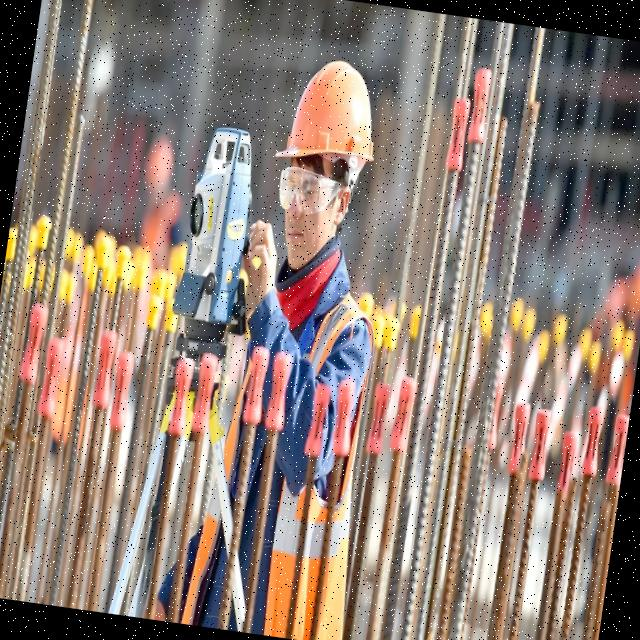Helmet: (274, 55, 387, 182)
Jacket: (216, 283, 384, 640)
